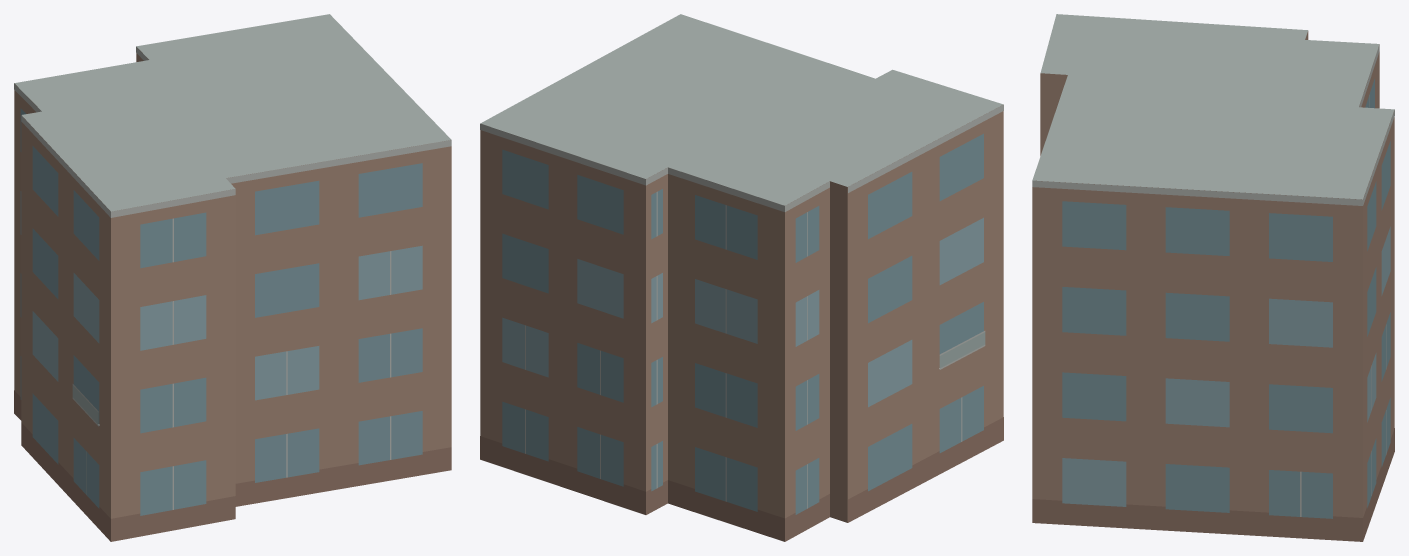
Rendered from survey-upis-32658975.glb.
3 renders of one model, left to right at view 1: azimuth 30°, elevation 25°; view 2: azimuth 150°, elevation 25°; view 3: azimuth 270°, elevation 25°, orthographic. The views are drawn at different scales.
Parts seen in each view (by area): view 1: survey-upis-32658975.tmp; view 2: survey-upis-32658975.tmp; view 3: survey-upis-32658975.tmp.
Part boxes in pixels (x1,y1,x2,y2): survey-upis-32658975.tmp: (14, 14, 451, 541); survey-upis-32658975.tmp: (480, 14, 1003, 541); survey-upis-32658975.tmp: (1032, 14, 1394, 541).
Size of the model in its own units: 14.77 by 12.7 by 12.19.
